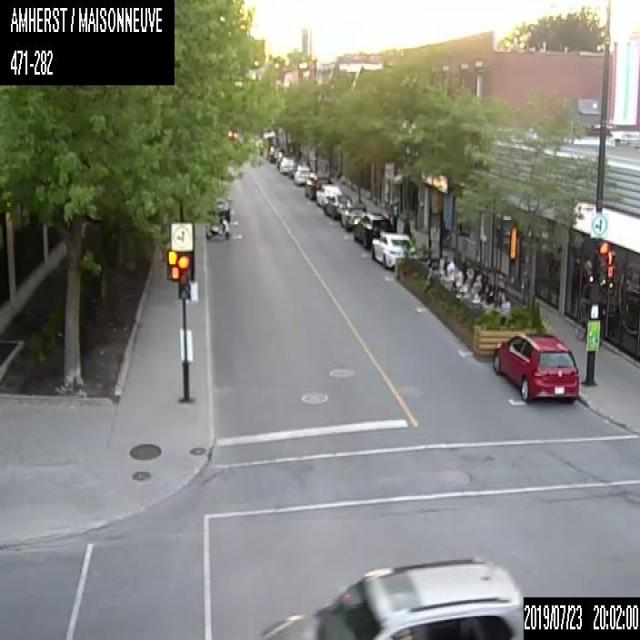pedestrian: (500, 291, 510, 311)
vehicle: (258, 554, 522, 638), (491, 329, 580, 407), (371, 232, 417, 267), (354, 212, 394, 248), (304, 172, 332, 200), (323, 193, 352, 218), (341, 202, 366, 230), (315, 183, 340, 207), (205, 217, 231, 240), (213, 197, 230, 221), (294, 164, 310, 184), (280, 157, 294, 173)
